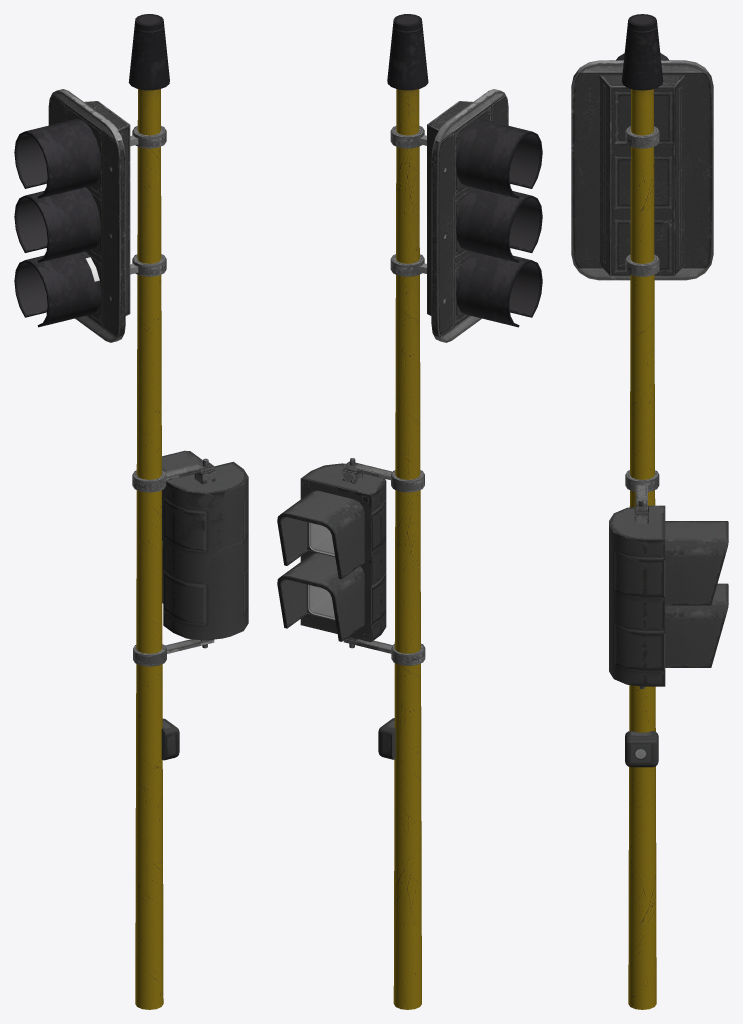
The model's file is PW_Traffic_light_03.fbx.
3 views of the same model, side by side, from view 1: azimuth 30°, elevation 25°; view 2: azimuth 150°, elevation 25°; view 3: azimuth 270°, elevation 25° (orthographic).
Visible parts, largest first — view 1: PW_Traffic_light_03_LOD0; view 2: PW_Traffic_light_03_LOD0; view 3: PW_Traffic_light_03_LOD0.
Part boxes in pixels (x1,y1,x2,y2): PW_Traffic_light_03_LOD0: (14, 14, 248, 1009); PW_Traffic_light_03_LOD0: (277, 14, 542, 1009); PW_Traffic_light_03_LOD0: (571, 14, 728, 1009).
Size of what is drawn, in the model's own units: 106 by 467 by 67.61.
